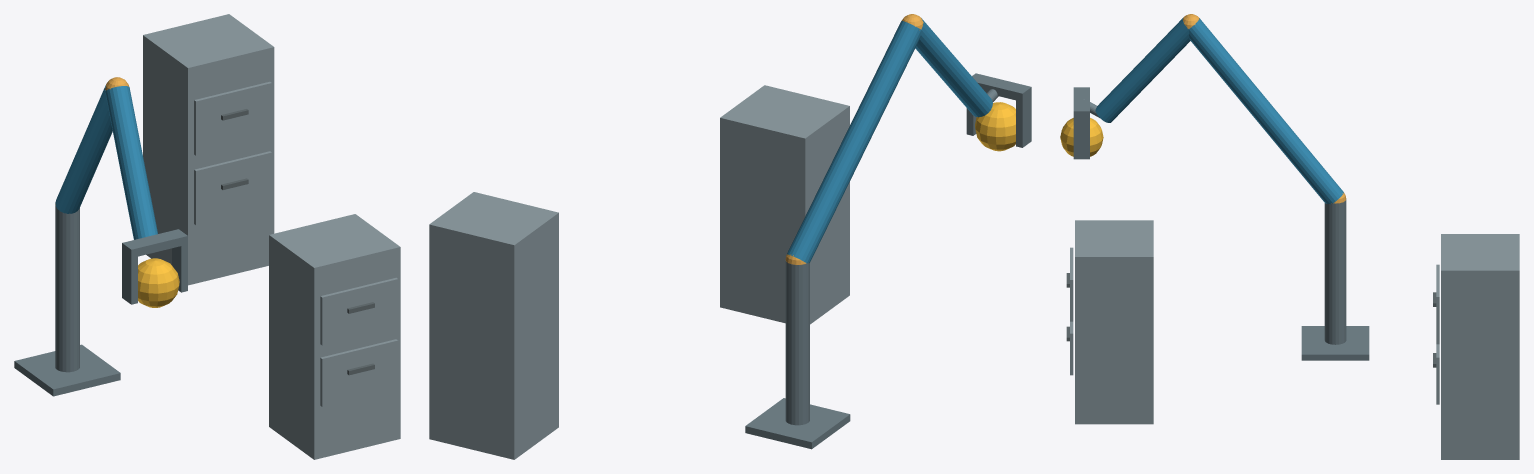
3 renders of one model, left to right at view 1: azimuth 30°, elevation 25°; view 2: azimuth 150°, elevation 25°; view 3: azimuth 270°, elevation 25°, orthographic. The views are drawn at different scales.
Parts seen in each view (by area): view 1: cabinet_2 body, cabinet_1 body, cabinet_2 drawer front, cabinet_2 drawer front.001, fixed post, moving link 2, cabinet_1 drawer front.001, cabinet_1 drawer front, moving link 1, pedestal, ball ball_1, gripper bridge (+2 smaller); view 2: cabinet_2 body, cabinet_1 body, moving link 1, fixed post, pedestal, moving link 2, ball ball_1, gripper bridge, gripper finger -1; view 3: cabinet_2 body, cabinet_1 body, moving link 1, fixed post, moving link 2, pedestal, ball ball_1, gripper finger 1, gripper bridge.
Boxes of the visible parts, x1,y1,x2,y2 form: cabinet_2 body: (143,14,274,285); cabinet_1 body: (269,214,400,459); cabinet_2 drawer front: (194,151,271,225); cabinet_2 drawer front.001: (194,81,271,155); fixed post: (55,206,79,372); moving link 2: (105,86,157,239); cabinet_1 drawer front.001: (320,277,398,345); cabinet_1 drawer front: (320,339,398,406); moving link 1: (55,85,112,213); pedestal: (14,344,120,396); ball ball_1: (138,258,179,307); gripper bridge: (122,229,187,257); cabinet_2 body: (429,192,558,459); cabinet_1 body: (720,85,849,324); moving link 1: (787,21,921,263); fixed post: (785,261,809,425); pedestal: (745,398,850,449); moving link 2: (915,18,992,117); ball ball_1: (975,102,1015,151); gripper bridge: (972,73,1031,101); gripper finger -1: (1016,95,1031,147); cabinet_2 body: (1441,234,1519,459); cabinet_1 body: (1075,220,1153,424); moving link 1: (1188,18,1343,204); fixed post: (1324,199,1346,344); moving link 2: (1095,17,1190,122); pedestal: (1301,326,1369,360); ball ball_1: (1060,118,1103,156); gripper finger 1: (1073,118,1089,159); gripper bridge: (1073,87,1089,118).
Size of the model in its own units: 1.31 by 1.29 by 1.69.
